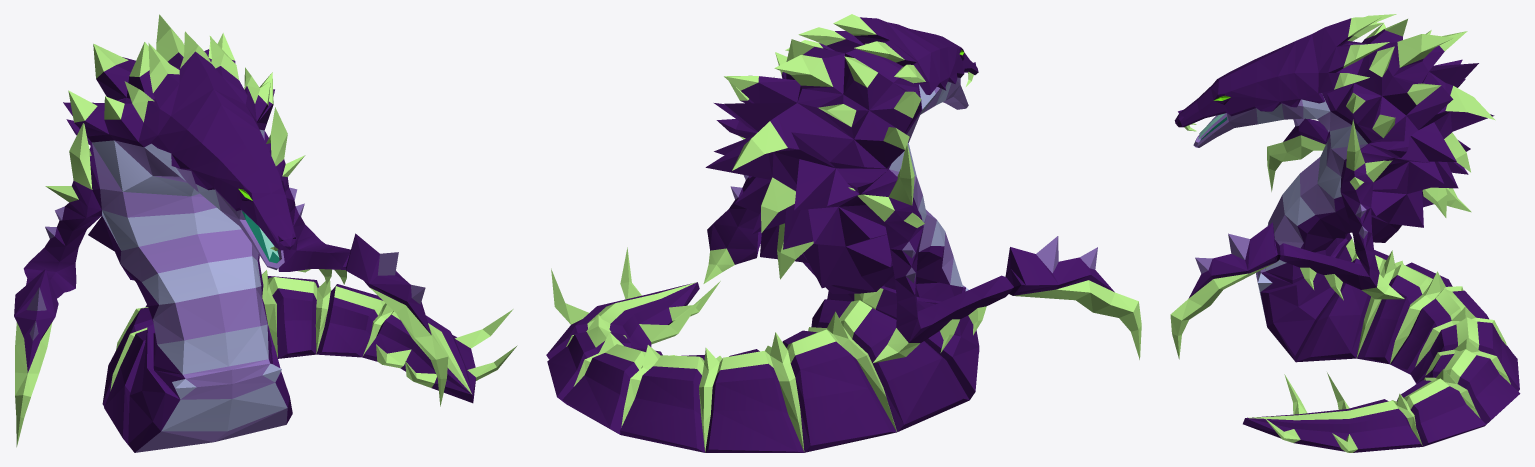
3 views of the same model, side by side, from view 1: azimuth 30°, elevation 25°; view 2: azimuth 150°, elevation 25°; view 3: azimuth 270°, elevation 25° (orthographic). The views are drawn at different scales.
Parts seen in each view (by area): view 1: Alien_Serpent; view 2: Alien_Serpent; view 3: Alien_Serpent.
Part boxes in pixels (x1,y1,x2,y2): Alien_Serpent: (14, 14, 517, 452); Alien_Serpent: (546, 14, 1141, 452); Alien_Serpent: (1170, 14, 1520, 452).
Bounding box in the file's own units: 306 × 206 × 200.
Materials: 1 (1 with a texture image).
